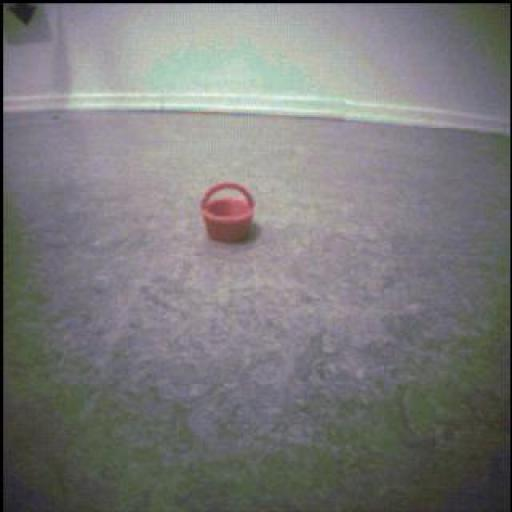Bucket: (202, 178, 258, 246)
